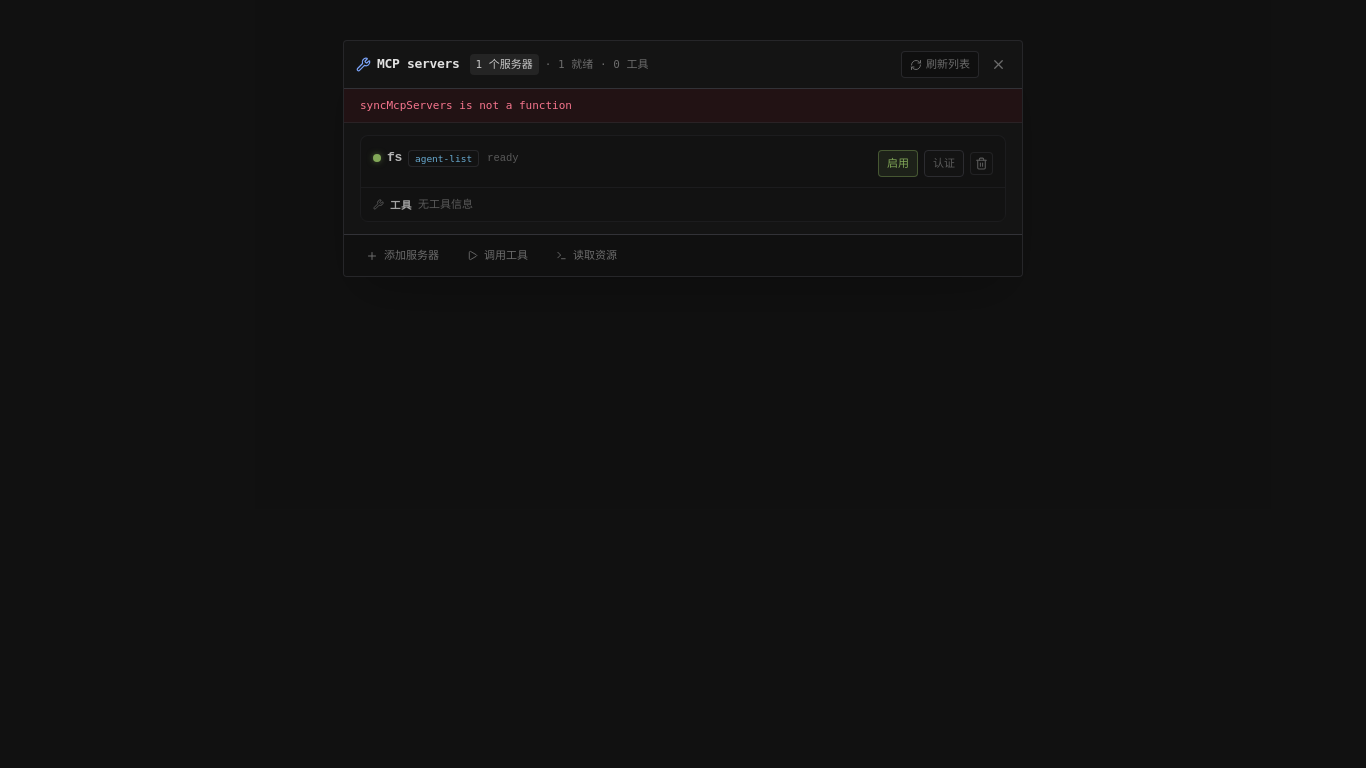
Test: McpPanel — 管理操作 › 操作失败 → actionError 行
Click the button "启用" at point(898, 164), box [878,150,918,177]
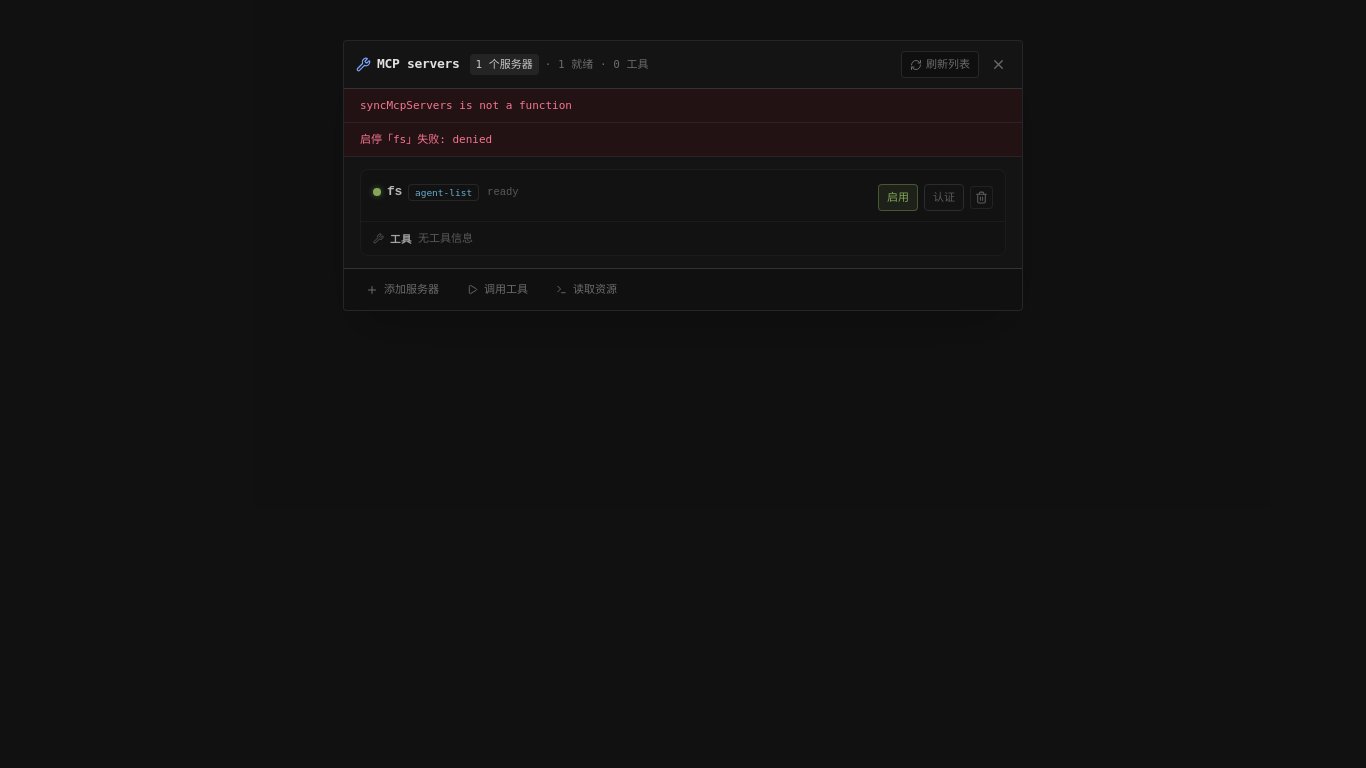
Result: the text "启停「fs」失败: denied" is shown at [344,123,1022,157]
